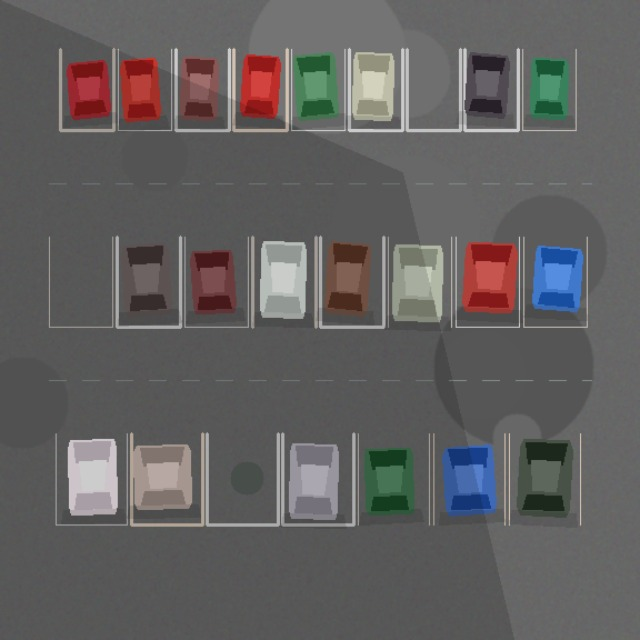space-empty: (207, 433, 278, 524), (49, 237, 112, 327), (407, 49, 460, 130)
space-occupied: (56, 433, 127, 524), (131, 433, 202, 524), (282, 433, 353, 524), (358, 433, 429, 524), (433, 433, 504, 524), (509, 433, 580, 524), (184, 237, 248, 327), (252, 237, 316, 327), (523, 237, 587, 327), (117, 237, 180, 327), (320, 237, 383, 327), (388, 237, 451, 327), (456, 237, 519, 327), (233, 49, 287, 130), (464, 49, 518, 130), (522, 49, 576, 130), (60, 49, 113, 130), (118, 49, 171, 130), (176, 49, 229, 130), (291, 49, 344, 130), (349, 49, 402, 130)
